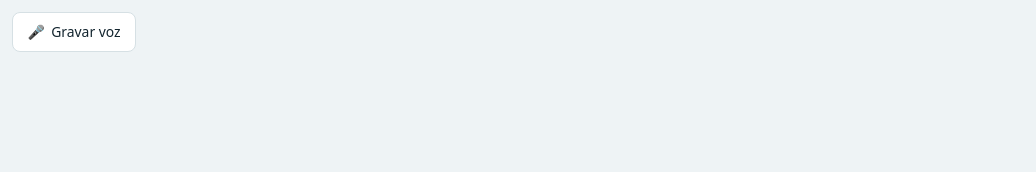
Test case: 32-34. gravador de voz › envia com nome e duração medidos pelo gravador
Later steps or results of the test are not shown.
Click the button with aria-label "gravar mensagem de voz".
click(74, 32)  # box [12,12,136,52]
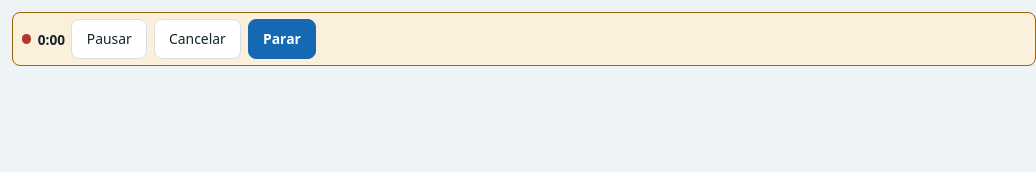
Check: the button "Parar" is shown, box [248,19,316,59]
